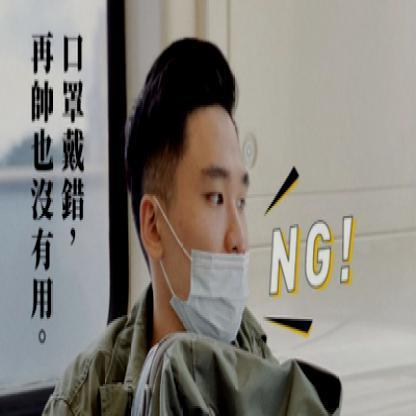mask_weared_incorrect: (169, 159, 250, 341)
